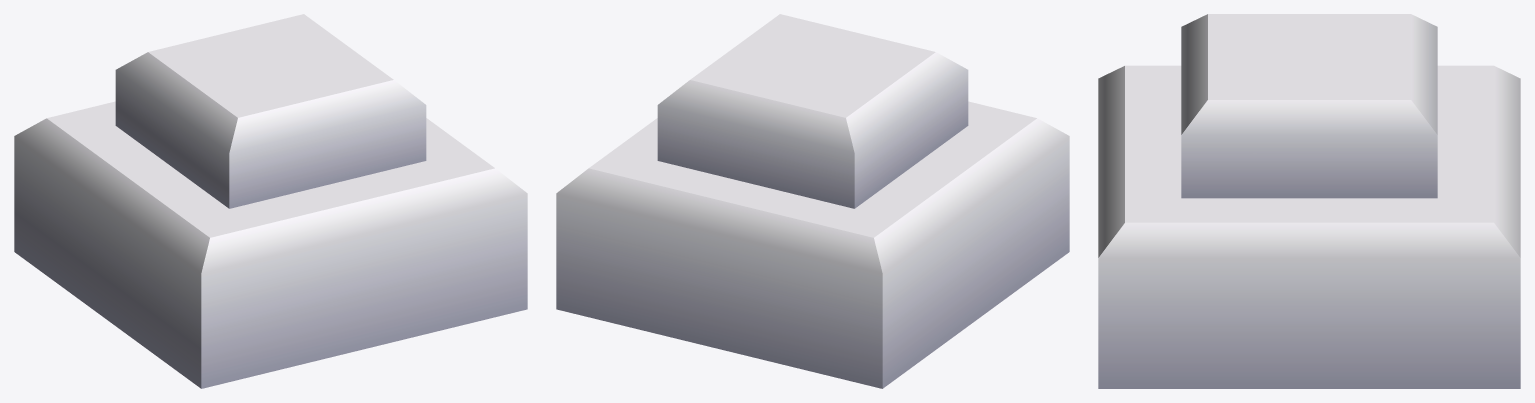
Rendered from kenney-brick-square-hq-plate-1-x-1.glb.
The picture shows the model from 3 angles, left to right: view 1: azimuth 30°, elevation 25°; view 2: azimuth 150°, elevation 25°; view 3: azimuth 270°, elevation 25°; orthographic projection. The views are drawn at different scales.
Visible parts, largest first — view 1: square-hq-plate-1x1; view 2: square-hq-plate-1x1; view 3: square-hq-plate-1x1.
Part boxes in pixels (left/top/right/bottom): square-hq-plate-1x1: left=14, top=14, right=527, bottom=388; square-hq-plate-1x1: left=556, top=14, right=1069, bottom=388; square-hq-plate-1x1: left=1098, top=14, right=1520, bottom=388.
Size of the model in its own units: 0.0795 by 0.05 by 0.079.
1 material, 1 textured.
